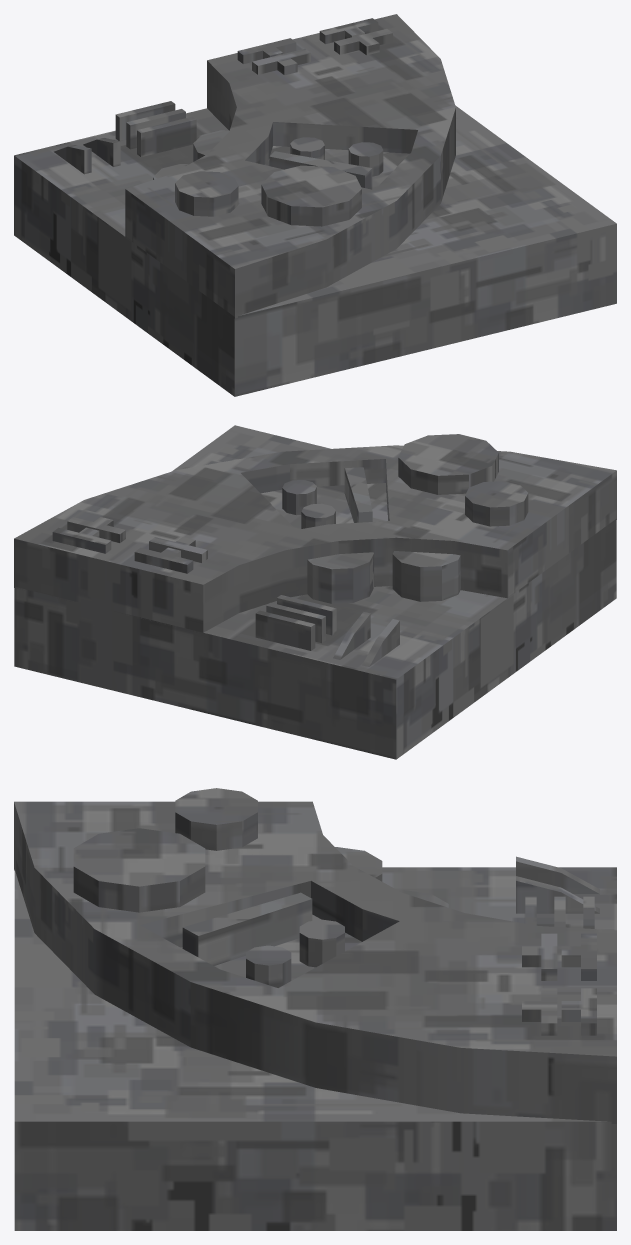
File: block 2x2 bottom left.fbx
3 renders of one model, top to bottom at view 1: azimuth 30°, elevation 25°; view 2: azimuth 150°, elevation 25°; view 3: azimuth 270°, elevation 25°, orthographic. The views are drawn at different scales.
Parts seen in each view (by area): view 1: Bottom_Left; view 2: Bottom_Left; view 3: Bottom_Left.
Boxes of the visible parts, bbox=[...] form: Bottom_Left: bbox=[14, 14, 616, 396]; Bottom_Left: bbox=[14, 425, 616, 759]; Bottom_Left: bbox=[14, 788, 616, 1230].
Size of the model in its own units: 5.01 by 1.84 by 5.01.
Materials: 1 (1 with a texture image).
